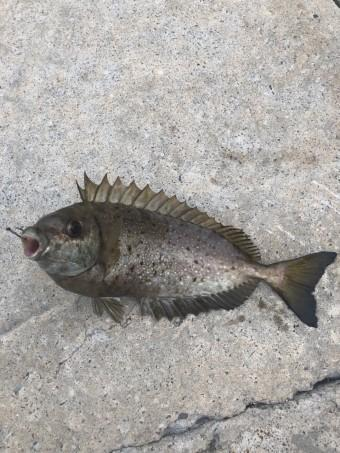fish: (7, 173, 336, 326)
